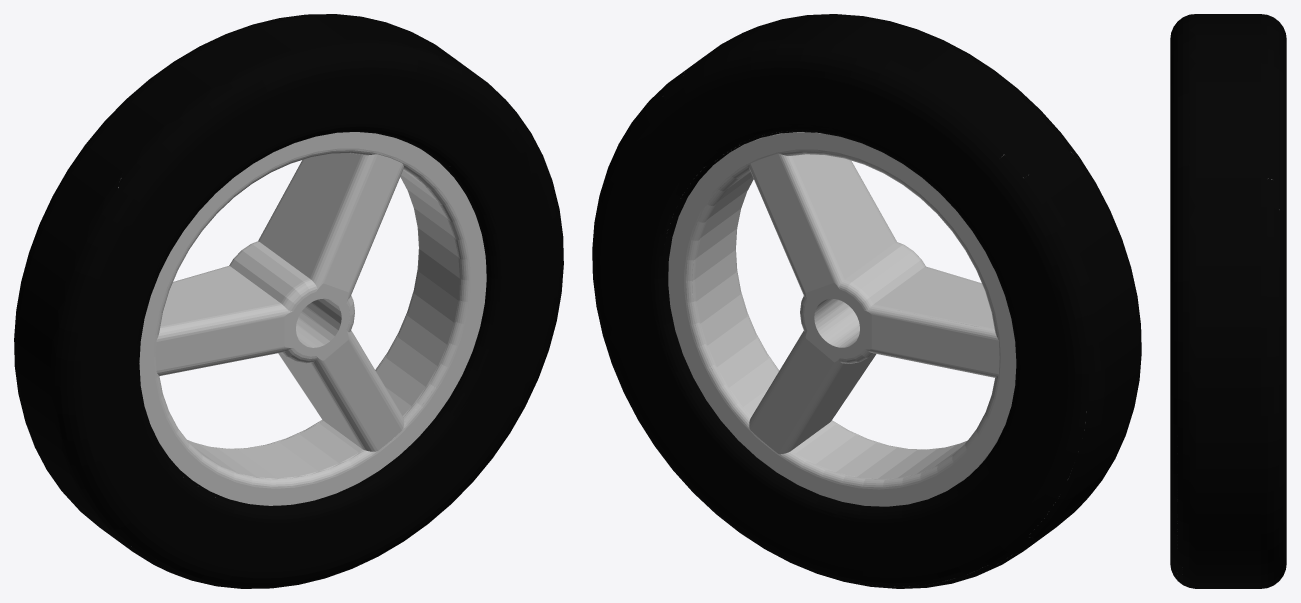
File: center_wheel_link.dae
3 renders of one model, left to right at view 1: azimuth 30°, elevation 25°; view 2: azimuth 150°, elevation 25°; view 3: azimuth 270°, elevation 25°, orthographic. The views are drawn at different scales.
Visible parts, largest first — view 1: Center_Wheel_Black, Center_Wheel_Silver; view 2: Center_Wheel_Black, Center_Wheel_Silver; view 3: Center_Wheel_Black.
Part boxes in pixels (bbox=[...]): Center_Wheel_Black: bbox=[14, 14, 563, 588]; Center_Wheel_Silver: bbox=[139, 132, 486, 505]; Center_Wheel_Black: bbox=[592, 14, 1141, 588]; Center_Wheel_Silver: bbox=[668, 132, 1016, 506]; Center_Wheel_Black: bbox=[1170, 14, 1286, 588].
Bounding box in the file's own units: 0.2219 × 0.045 × 0.2218.
2 materials, 2 textured.
